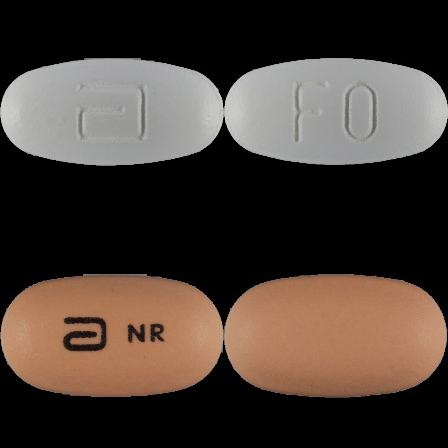0074-6123: (0, 0, 224, 224)
